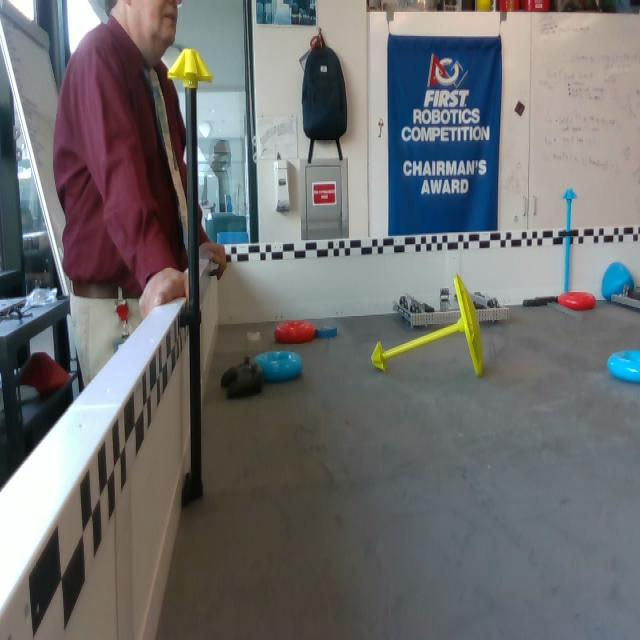Blue-Ring: (258, 351, 303, 383), (608, 347, 639, 389)
Mobile-Goal: (372, 277, 485, 377)
Red-Ring: (550, 289, 600, 313), (274, 321, 314, 344)
Yellow-Stake-Head: (167, 47, 214, 83), (371, 340, 387, 372)
zblue-Stake-Head: (562, 188, 578, 200)
